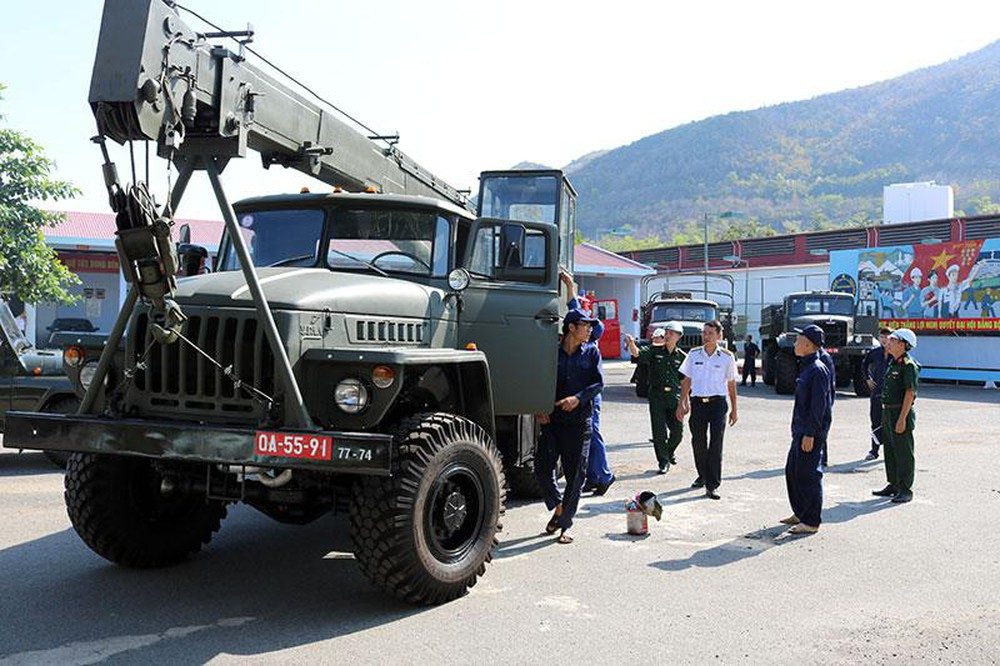plate: (255, 429, 331, 461)
